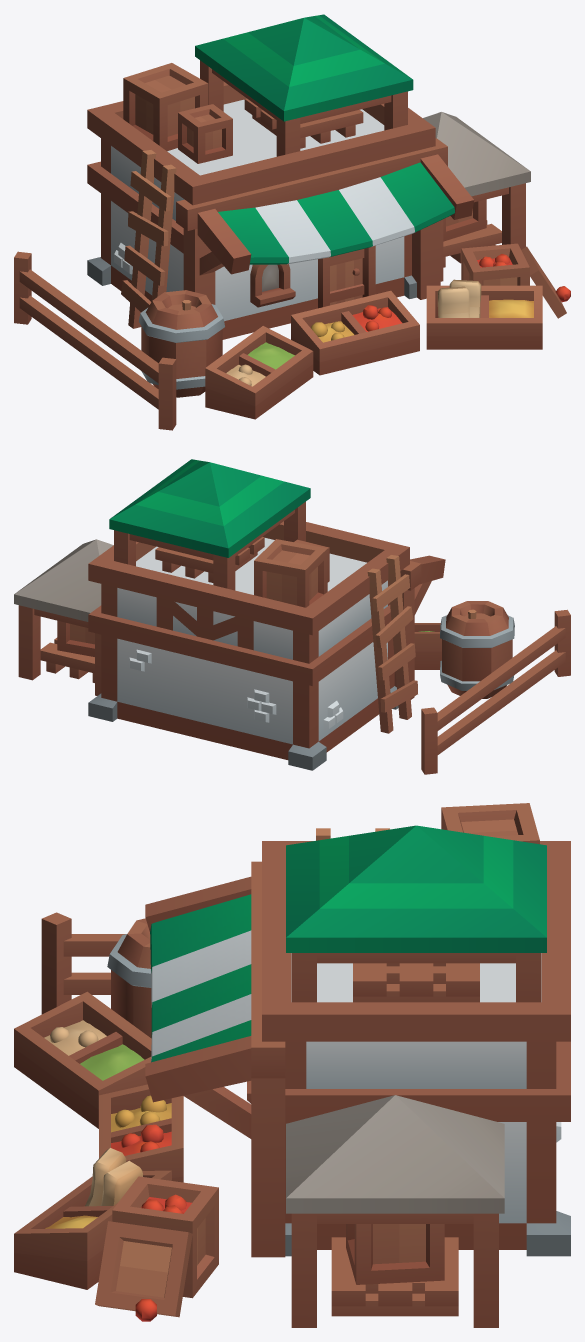
Rendered from building_market_green.gltf.
3 views of the same model, one above another, from view 1: azimuth 30°, elevation 25°; view 2: azimuth 150°, elevation 25°; view 3: azimuth 270°, elevation 25° (orthographic). The views are drawn at different scales.
Visible parts, largest first — view 1: building_market_green; view 2: building_market_green; view 3: building_market_green.
Part boxes in pixels (box(x1,y1,x2,y2)): building_market_green: box(14, 14, 570, 430); building_market_green: box(14, 459, 570, 774); building_market_green: box(14, 803, 570, 1327).
Size of the model in its own units: 1.8 by 0.9816 by 1.32.
1 material, 1 textured.
